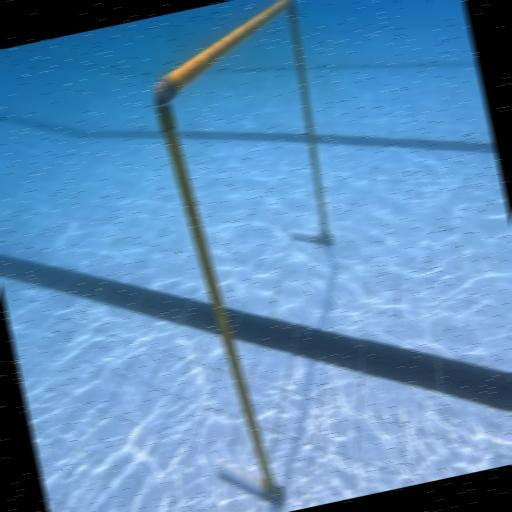gate: (122, 0, 398, 512)
